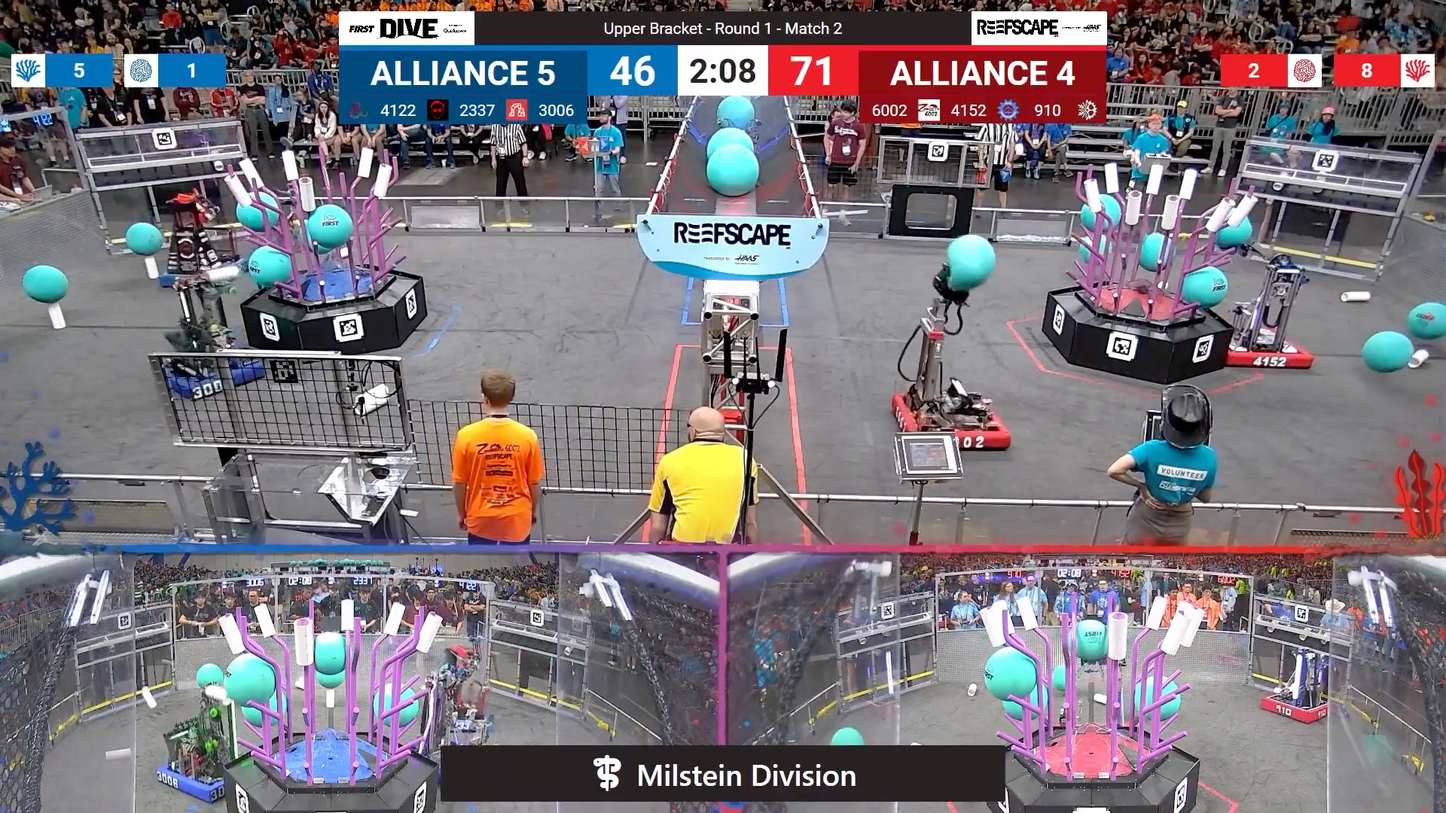bumpers: (884, 385, 1014, 452), (160, 346, 270, 400), (151, 748, 249, 804), (1213, 324, 1319, 374), (152, 257, 256, 288), (1254, 691, 1338, 726)
